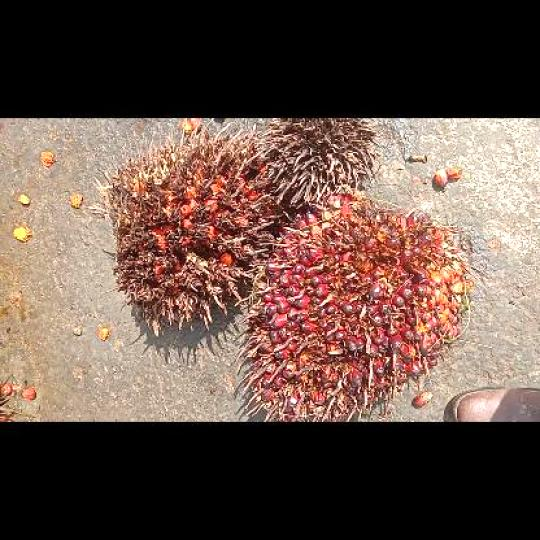masak: (233, 189, 472, 420)
terlalu masak: (87, 118, 284, 334)
